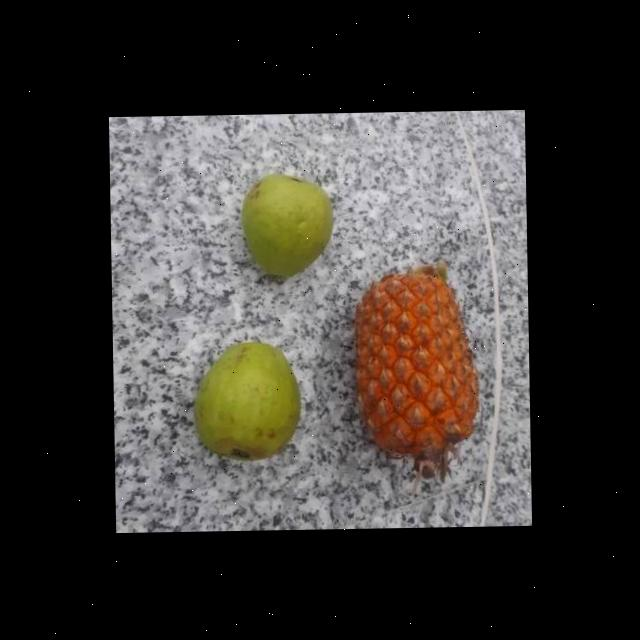guava: (193, 339, 300, 465), (242, 170, 332, 282)
pineapple: (348, 266, 478, 474)
